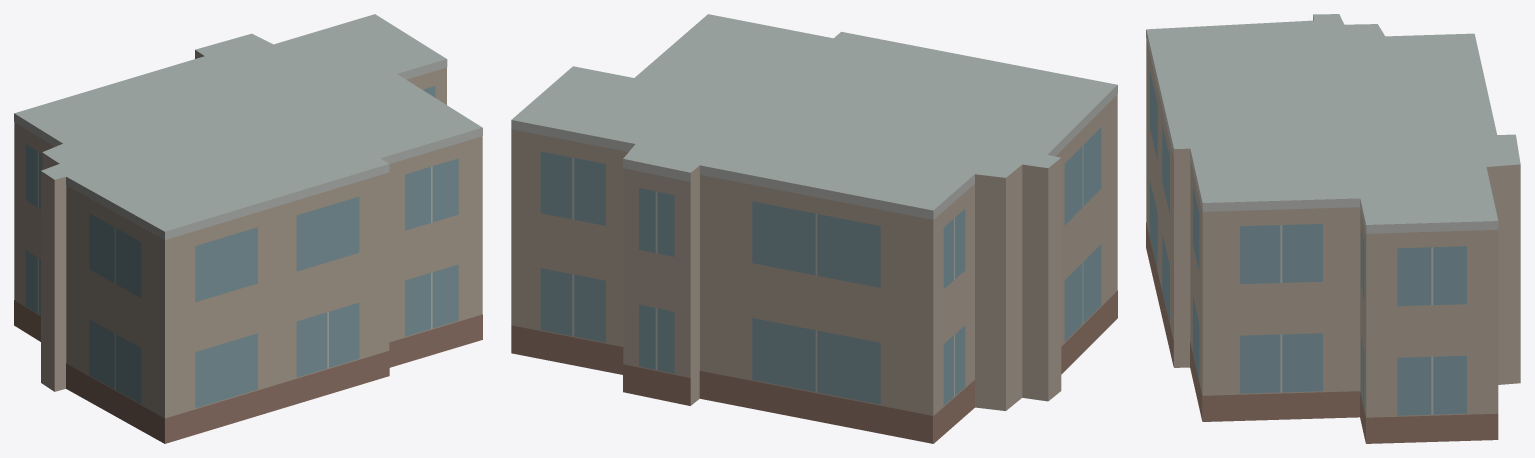
Rendered from survey-upis-32625749.glb.
3 views of the same model, side by side, from view 1: azimuth 30°, elevation 25°; view 2: azimuth 150°, elevation 25°; view 3: azimuth 270°, elevation 25° (orthographic). The views are drawn at different scales.
Visible parts, largest first — view 1: survey-upis-32625749.tmp; view 2: survey-upis-32625749.tmp; view 3: survey-upis-32625749.tmp.
Part boxes in pixels (x1,y1,x2,y2): survey-upis-32625749.tmp: [14, 14, 482, 443]; survey-upis-32625749.tmp: [511, 14, 1117, 443]; survey-upis-32625749.tmp: [1146, 14, 1520, 443].
Bounding box in the file's own units: 12.62 × 6.1 × 9.47.
